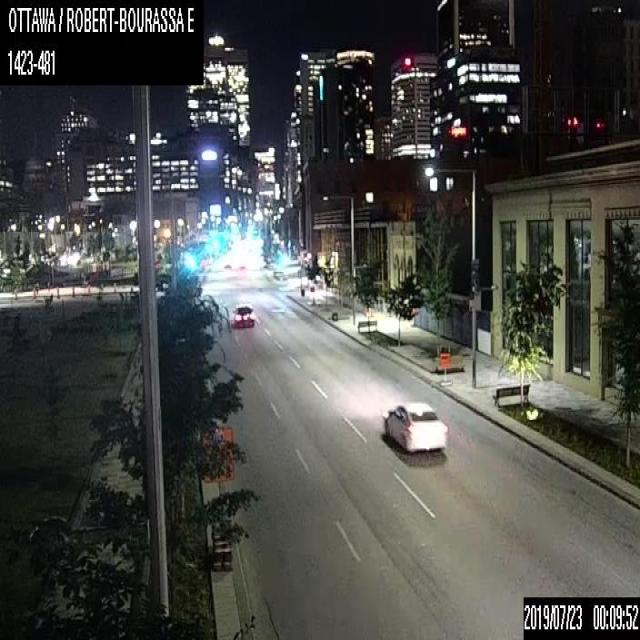construction: (199, 426, 233, 570), (438, 351, 450, 384)
vehicle: (384, 400, 447, 451), (231, 304, 254, 327)
